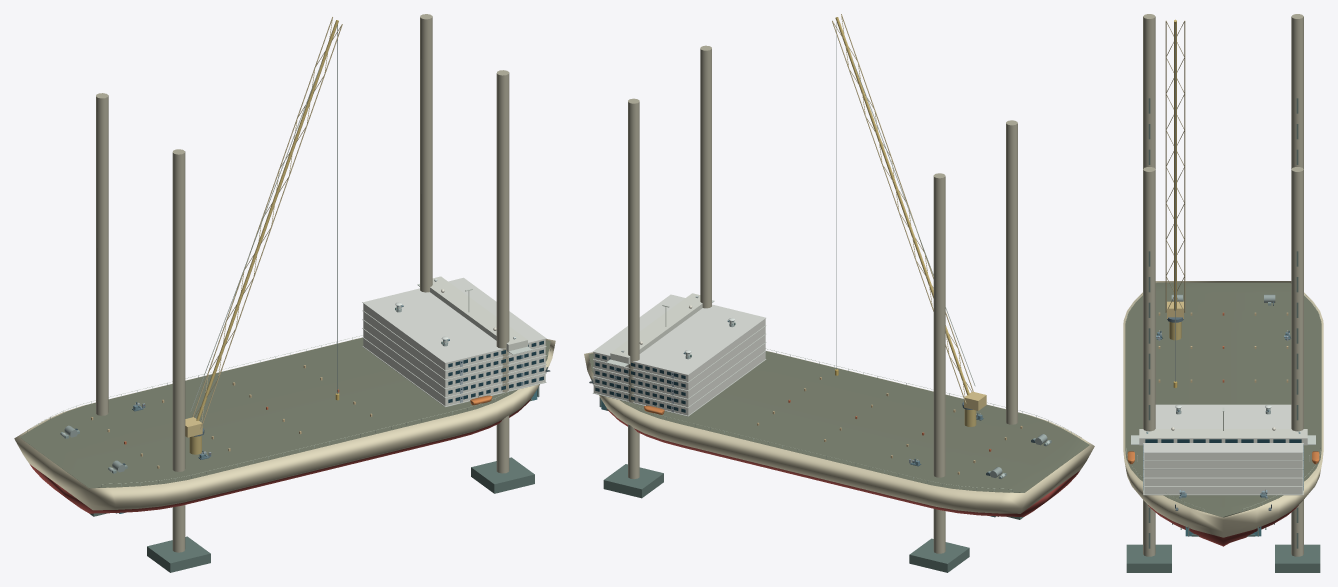
Rendered from voltaire.lod0.glb.
3 views of the same model, side by side, from view 1: azimuth 30°, elevation 25°; view 2: azimuth 150°, elevation 25°; view 3: azimuth 270°, elevation 25° (orthographic). The views are drawn at different scales.
Visible parts, largest first — view 1: voltaire.structure.decks.main-strength-deck.1, voltaire.structure.hull.outer-hull-shell.1, voltaire.accommodation.superstructure.superstructure-weather, voltaire.cargo.jacking.jack-up-leg-32-1.2, voltaire.cargo.jacking.jack-up-leg-32-1.4, voltaire.cargo.jacking.jack-up-leg-32-1.1, voltaire.cargo.jacking.jack-up-leg-32-1.3, voltaire.navigation.bridge.wheelhouse.1, voltaire.structure.hull.antifouling-underwater-shell.1, voltaire.cargo.installation-crane.installation-crane-main-bo, voltaire.cargo.jacking.spudcan-32-1.2, voltaire.cargo.jacking.spudcan-32-1.4 (+6 smaller); view 2: voltaire.structure.decks.main-strength-deck.1, voltaire.structure.hull.outer-hull-shell.1, voltaire.accommodation.superstructure.superstructure-weather, voltaire.cargo.jacking.jack-up-leg-32-1.1, voltaire.cargo.jacking.jack-up-leg-32-1.3, voltaire.cargo.jacking.jack-up-leg-32-1.2, voltaire.cargo.jacking.jack-up-leg-32-1.4, voltaire.navigation.bridge.wheelhouse.1, voltaire.structure.hull.antifouling-underwater-shell.1, voltaire.cargo.jacking.spudcan-32-1.1, voltaire.cargo.jacking.spudcan-32-1.3, voltaire.cargo.installation-crane.installation-crane-main-bo (+5 smaller); view 3: voltaire.structure.decks.main-strength-deck.1, voltaire.structure.hull.outer-hull-shell.1, voltaire.accommodation.superstructure.superstructure-weather, voltaire.cargo.jacking.jack-up-leg-32-1.3, voltaire.cargo.jacking.jack-up-leg-32-1.4, voltaire.navigation.bridge.wheelhouse.1, voltaire.cargo.jacking.jack-up-leg-32-1.1, voltaire.cargo.jacking.jack-up-leg-32-1.2, voltaire.accommodation.superstructure.deck-3-enclosure.1, voltaire.accommodation.superstructure.deck-1-enclosure.1, voltaire.accommodation.superstructure.deck-2-enclosure.1, voltaire.accommodation.superstructure.deck-4-enclosure.1 (+9 smaller).
Part boxes in pixels (x1,y1,x2,y2): voltaire.structure.decks.main-strength-deck.1: (20,337,550,488); voltaire.structure.hull.outer-hull-shell.1: (14,337,555,510); voltaire.accommodation.superstructure.superstructure-weather: (362,277,546,363); voltaire.cargo.jacking.jack-up-leg-32-1.2: (172,149,185,552); voltaire.cargo.jacking.jack-up-leg-32-1.4: (496,70,509,473); voltaire.cargo.jacking.jack-up-leg-32-1.1: (96,93,108,415); voltaire.cargo.jacking.jack-up-leg-32-1.3: (420,14,432,292); voltaire.navigation.bridge.wheelhouse.1: (430,276,527,352); voltaire.structure.hull.antifouling-underwater-shell.1: (30,399,530,513); voltaire.cargo.installation-crane.installation-crane-main-bo: (196,20,338,420); voltaire.cargo.jacking.spudcan-32-1.2: (147,536,210,572); voltaire.cargo.jacking.spudcan-32-1.4: (471,457,534,493); voltaire.structure.decks.main-strength-deck.1: (588,351,1089,492); voltaire.structure.hull.outer-hull-shell.1: (584,351,1094,513); voltaire.accommodation.superstructure.superstructure-weather: (593,294,765,375); voltaire.cargo.jacking.jack-up-leg-32-1.1: (933,173,945,553); voltaire.cargo.jacking.jack-up-leg-32-1.3: (628,98,639,479); voltaire.cargo.jacking.jack-up-leg-32-1.2: (1006,120,1017,424); voltaire.cargo.jacking.jack-up-leg-32-1.4: (700,45,711,308); voltaire.navigation.bridge.wheelhouse.1: (610,293,702,364); voltaire.structure.hull.antifouling-underwater-shell.1: (607,408,1079,516); voltaire.cargo.jacking.spudcan-32-1.1: (909,538,969,572); voltaire.cargo.jacking.spudcan-32-1.3: (603,464,663,498); voltaire.cargo.installation-crane.installation-crane-main-bo: (835,17,969,395); voltaire.structure.decks.main-strength-deck.1: (1125,282,1321,517); voltaire.structure.hull.outer-hull-shell.1: (1123,281,1323,537); voltaire.accommodation.superstructure.superstructure-weather: (1143,404,1303,452); voltaire.cargo.jacking.jack-up-leg-32-1.3: (1291,167,1303,556); voltaire.cargo.jacking.jack-up-leg-32-1.4: (1143,167,1155,556); voltaire.navigation.bridge.wheelhouse.1: (1139,429,1307,445); voltaire.cargo.jacking.jack-up-leg-32-1.1: (1291,14,1303,168); voltaire.cargo.jacking.jack-up-leg-32-1.2: (1143,14,1155,168); voltaire.accommodation.superstructure.deck-3-enclosure.1: (1144,469,1302,477); voltaire.accommodation.superstructure.deck-1-enclosure.1: (1144,486,1302,494); voltaire.accommodation.superstructure.deck-2-enclosure.1: (1144,478,1302,485); voltaire.accommodation.superstructure.deck-4-enclosure.1: (1144,461,1302,468).
Size of the model in its own units: 169 by 156 by 60.
